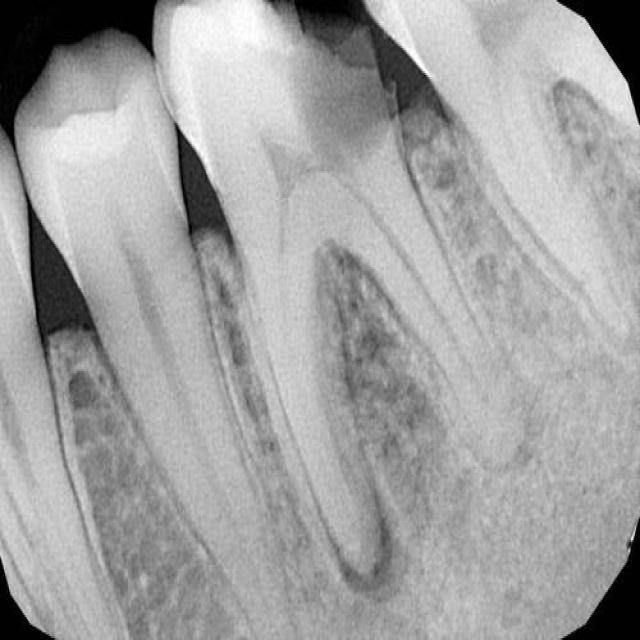Caries: (150, 0, 403, 606)
